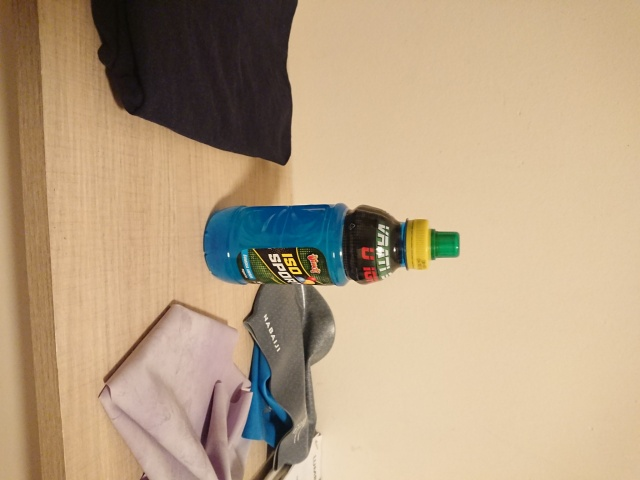Vindi Iso Sport Forest Strawberries 500mL: (200, 200, 462, 288)
